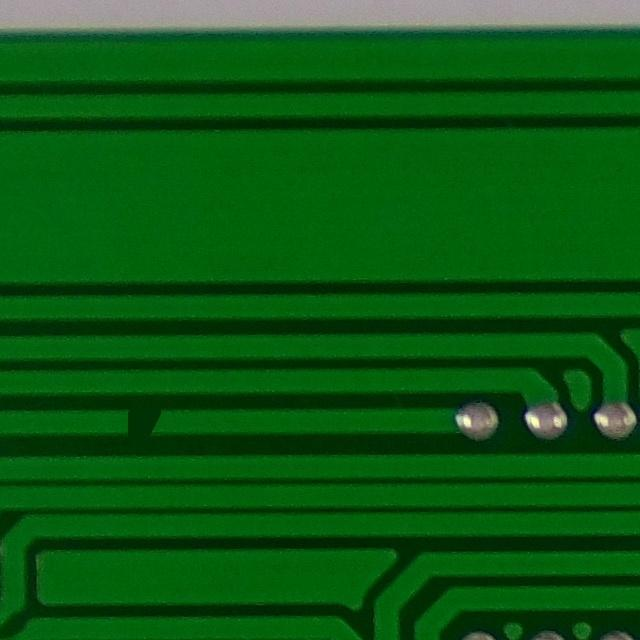open_circuit: (113, 395, 172, 453)
